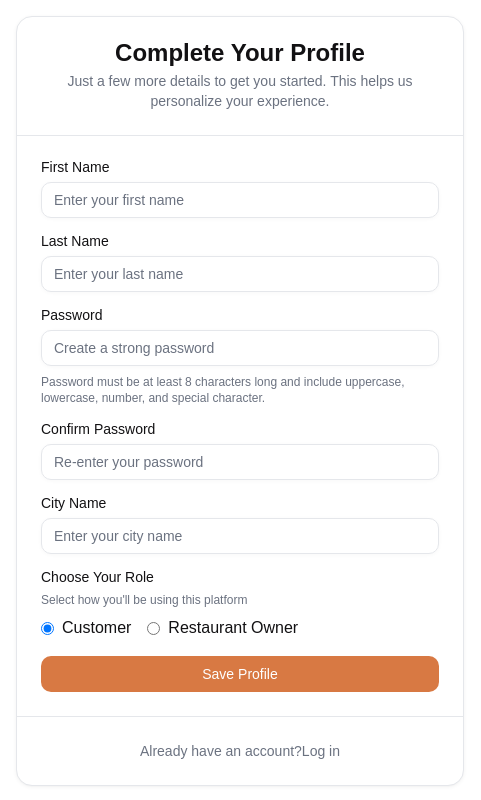
Test case: Create Account - Set Profile Page › validates fields and shows errors for invalid input
Click the button "Save Profile".
click(240, 674)  # box [41,656,439,692]
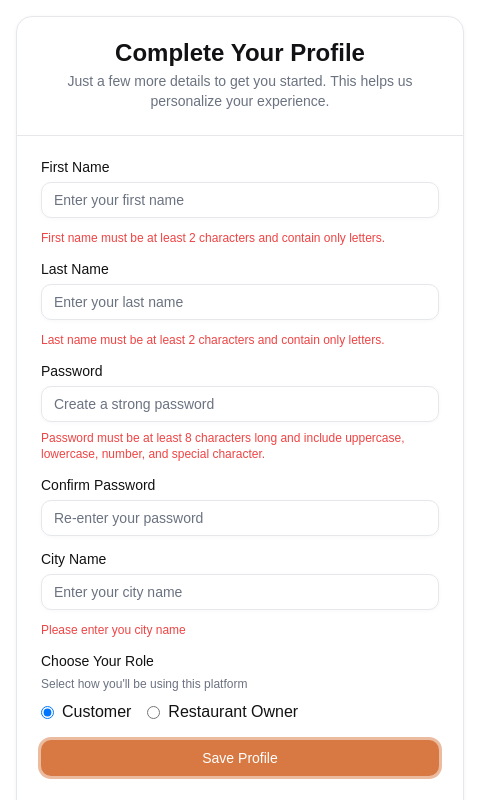
Expected: the text "First name must be at least 2 characters" is shown, [41,231,385,245]
